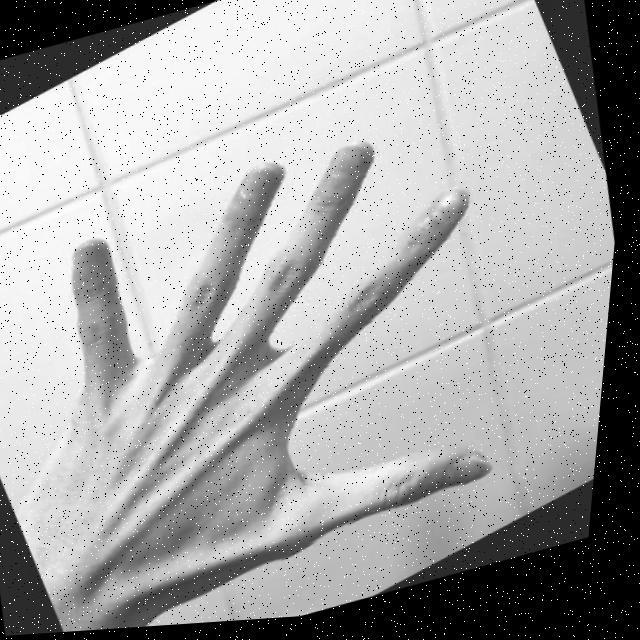no-gloves: (0, 100, 556, 640)
